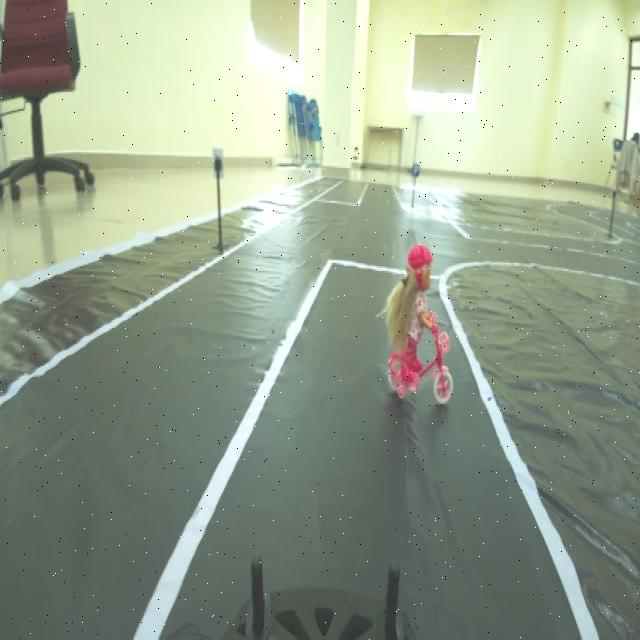pedestrian: (387, 238, 456, 400)
